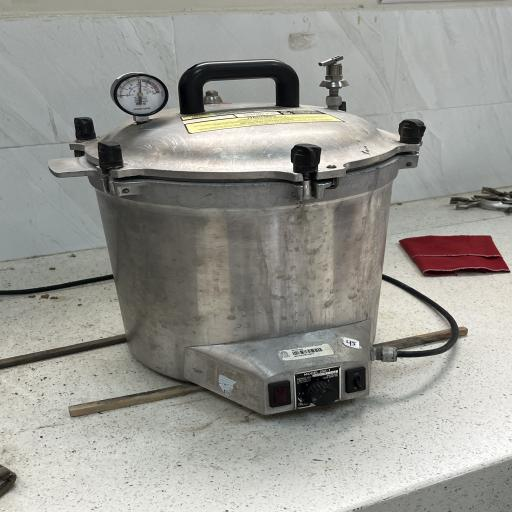Autoclave: (41, 51, 454, 440)
